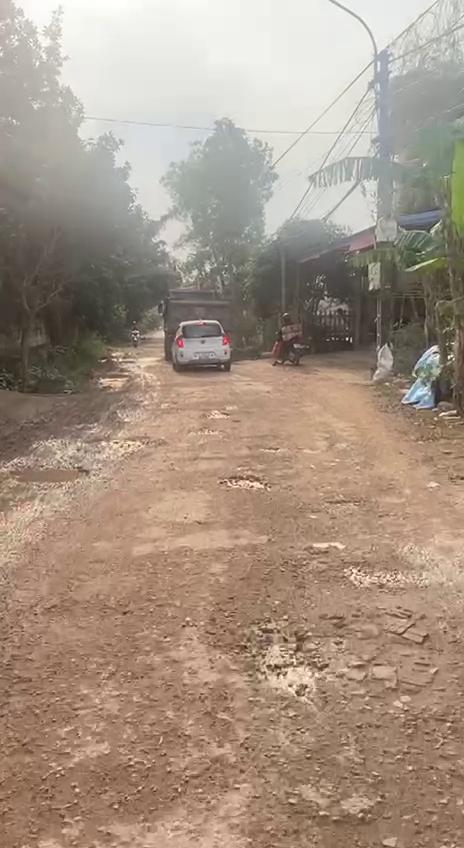pothole: (235, 618, 326, 718), (334, 559, 438, 595), (6, 463, 91, 482), (220, 474, 277, 495)
